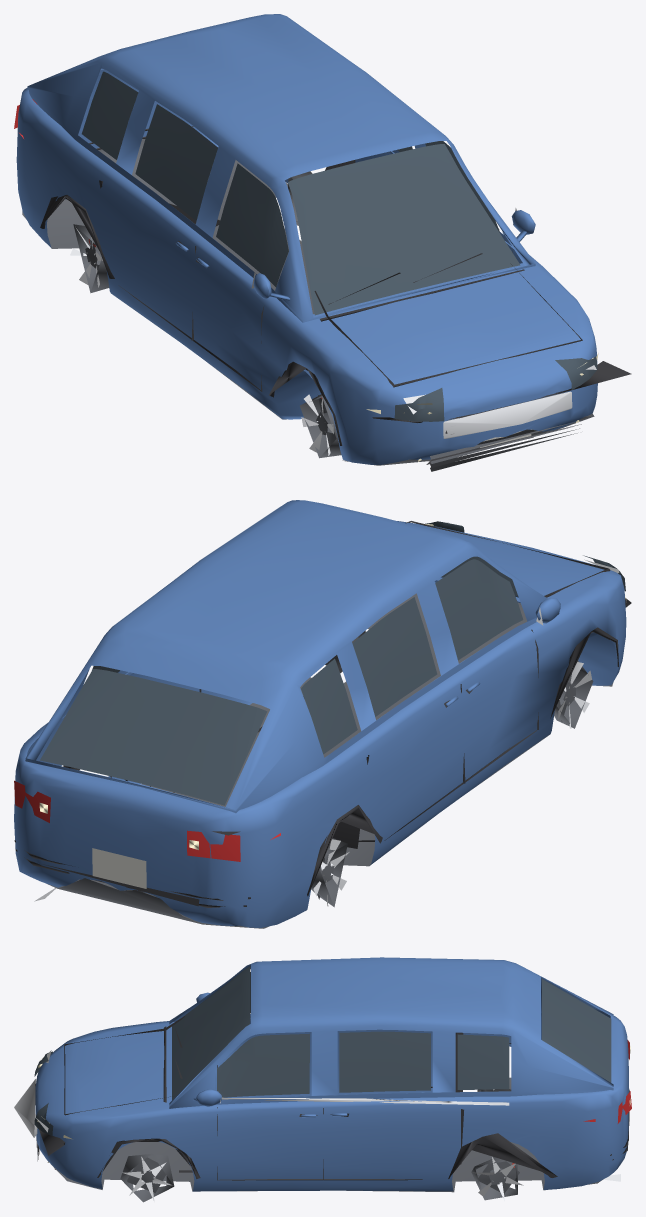
The model's file is CarV3_Minivan_L2.fbx.
The picture shows the model from 3 angles, top to bottom: view 1: azimuth 30°, elevation 25°; view 2: azimuth 150°, elevation 25°; view 3: azimuth 270°, elevation 25°; orthographic projection. The views are drawn at different scales.
Parts seen in each view (by area): view 1: CarV3_Minivan.001; view 2: CarV3_Minivan.001; view 3: CarV3_Minivan.001.
Part boxes in pixels (bbox=[...]): CarV3_Minivan.001: bbox=[14, 14, 631, 471]; CarV3_Minivan.001: bbox=[14, 500, 631, 928]; CarV3_Minivan.001: bbox=[14, 957, 631, 1202].
Bounding box in the file's own units: 2 × 1.63 × 5.15.
